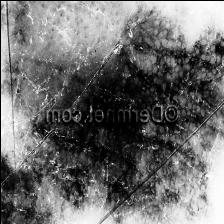Potentially Malignant Skin Tumors: (0, 0, 224, 106)
